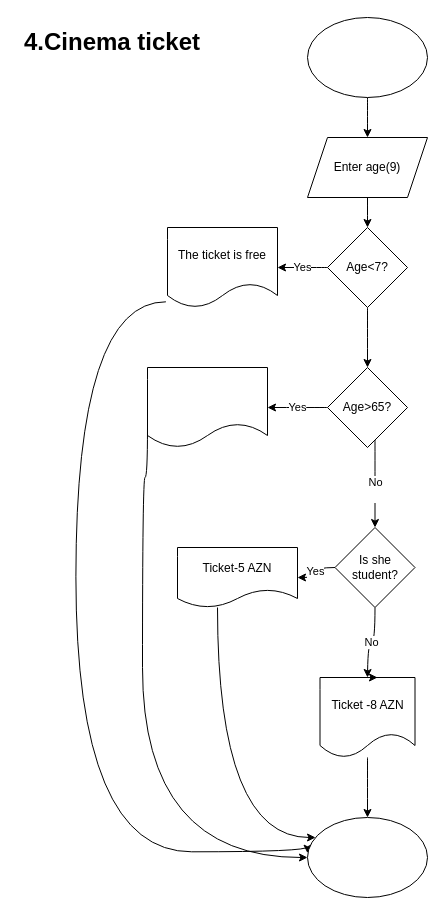
This 445x915 diagram has some shape labels left out. Each missing label, with the box of its shape:
End: (306, 816, 428, 898)
Start: (306, 16, 428, 98)
The ticket price is 4 AZN: (146, 366, 268, 448)
